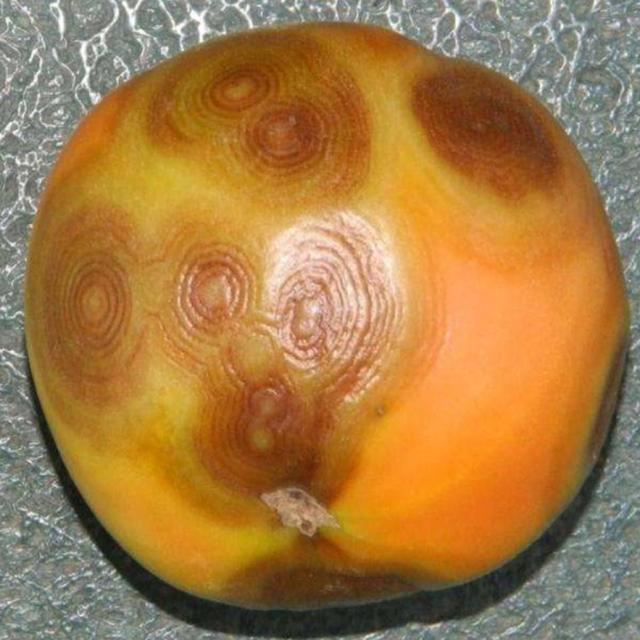Spotted wilt Virus Fruit: (89, 3, 166, 61)
